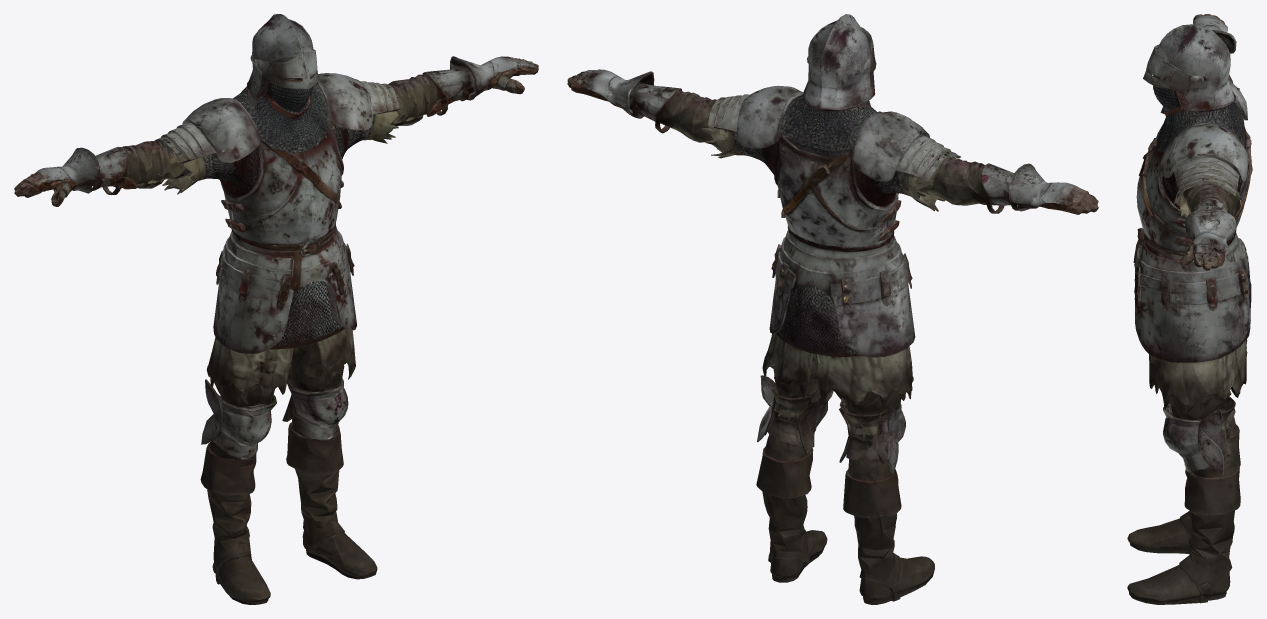
File: germany.glb
3 renders of one model, left to right at view 1: azimuth 30°, elevation 25°; view 2: azimuth 150°, elevation 25°; view 3: azimuth 270°, elevation 25°, orthographic. The views are drawn at different scales.
Parts seen in each view (by area): view 1: Mesh_0; view 2: Mesh_0; view 3: Mesh_0.
Part boxes in pixels (<box>): Mesh_0: <box>14,14,538,604</box>; Mesh_0: <box>567,14,1098,604</box>; Mesh_0: <box>1127,14,1252,604</box>.
Size of the model in its own units: 1.87 by 1.9 by 0.3932.
1 material, 1 textured.
